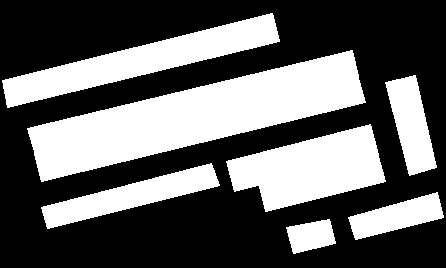parkingspot: (34, 74, 365, 181), (27, 50, 358, 155), (2, 13, 279, 107), (41, 163, 219, 228), (226, 124, 378, 191), (258, 152, 385, 211), (385, 75, 436, 175), (348, 192, 443, 239), (286, 219, 335, 253)
